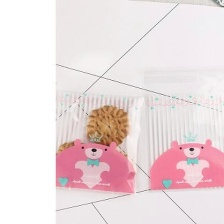snack: (138, 59, 224, 196), (55, 83, 149, 199)
